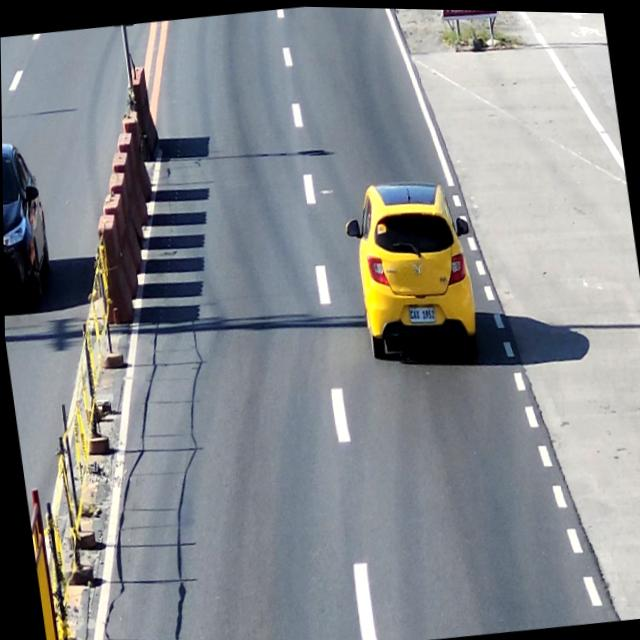Car: (345, 173, 477, 367), (2, 131, 59, 305)
License-Plate: (403, 295, 436, 324)
